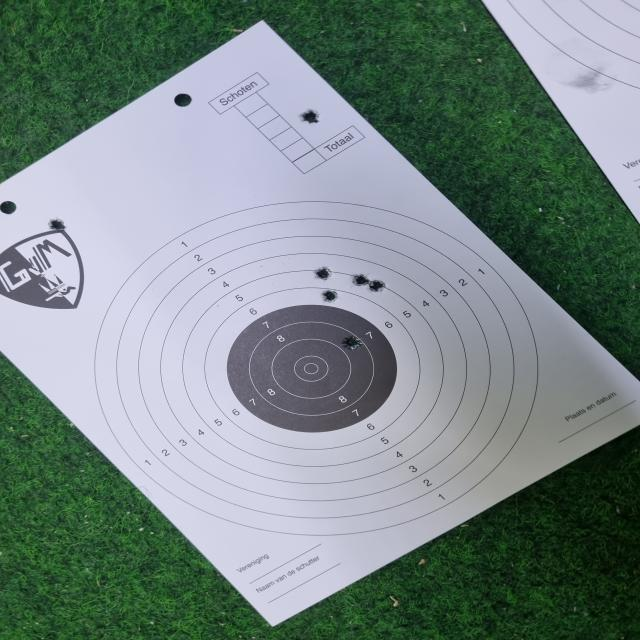6: (316, 266, 332, 280), (368, 280, 386, 292), (352, 274, 369, 286)
7: (321, 288, 338, 304)
9: (342, 336, 363, 350)
Black Contour: (226, 305, 396, 431)
Target: (93, 200, 540, 536)
hole: (300, 109, 320, 124), (48, 218, 66, 230)
